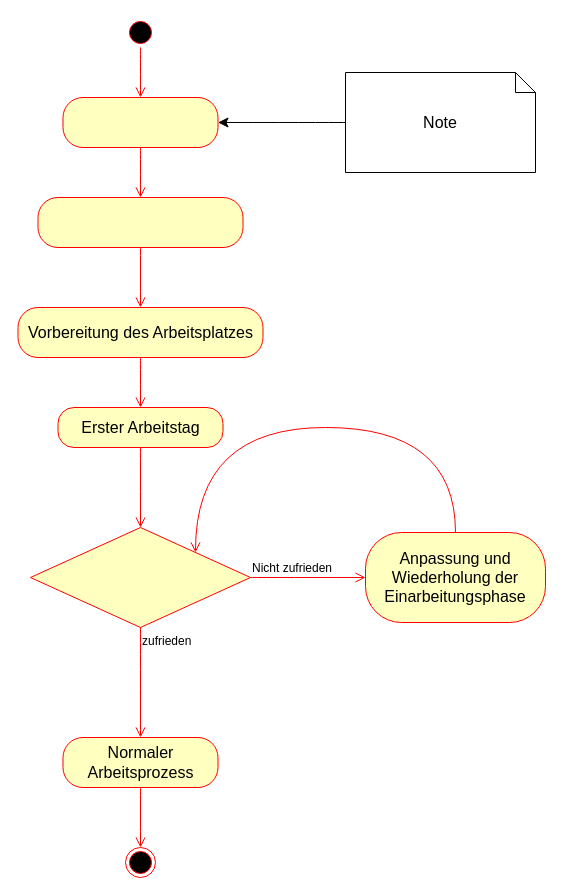
Image size: 563x895. Some labels were removed from this diagram. The centre of each missing label's shape, as x and y in pixels:
"Einarbeitungsphase" goes at (x=140, y=577).
"Jobangebot und Annahme" goes at (x=140, y=122).
"Vertragsunterzeichnung" goes at (x=140, y=222).
